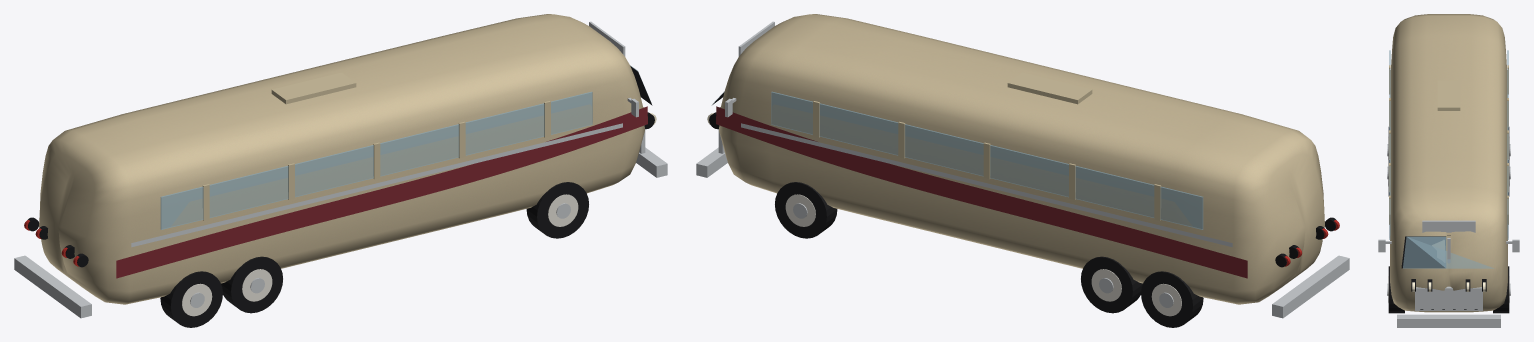
File: coach.glb
3 views of the same model, side by side, from view 1: azimuth 30°, elevation 25°; view 2: azimuth 150°, elevation 25°; view 3: azimuth 270°, elevation 25° (orthographic). The views are drawn at different scales.
Parts seen in each view (by area): view 1: CoachBody, CoachSideGlass_L, CoachSwoosh, CoachBelt, CoachTyre_2_L, CoachTyre_0_L, CoachTyre_1_L, CoachBumperR, CoachRoofVent, CoachWall_1_L, CoachWall_0_L, CoachWall_2_L (+1 smaller); view 2: CoachBody, CoachSideGlass_R, CoachSwoosh, CoachBelt, CoachTyre_2_R, CoachTyre_0_R, CoachTyre_1_R, CoachBumperR, CoachRoofVent, CoachWall_1_R, CoachWall_0_R, CoachWall_2_R (+1 smaller); view 3: CoachBody, CoachGrille, CoachBumperF, CoachScreenL, CoachScreenR, CoachScreenFrameL, CoachRoofVent, CoachBlindRim, CoachSideGlass_L, CoachSideGlass_R, CoachTyre_0_L, CoachTyre_0_R.
Boxes of the visible parts, box(x1,y1,x2,y2) form: CoachBody: box(39, 14, 644, 304); CoachSideGlass_L: box(160, 91, 592, 229); CoachSwoosh: box(116, 106, 647, 278); CoachBelt: box(131, 123, 622, 247); CoachTyre_2_L: box(160, 271, 222, 327); CoachTyre_0_L: box(526, 182, 588, 238); CoachTyre_1_L: box(221, 256, 282, 313); CoachBumperR: box(14, 255, 91, 318); CoachRoofVent: box(271, 72, 356, 104); CoachWall_1_L: box(242, 269, 272, 301); CoachWall_0_L: box(548, 194, 578, 226); CoachWall_2_L: box(182, 283, 212, 316); CoachBody: box(719, 14, 1324, 304); CoachSideGlass_R: box(771, 91, 1203, 229); CoachSwoosh: box(716, 106, 1247, 278); CoachBelt: box(741, 123, 1232, 247); CoachTyre_2_R: box(1141, 271, 1203, 327); CoachTyre_0_R: box(775, 182, 837, 238); CoachTyre_1_R: box(1081, 256, 1142, 313); CoachBumperR: box(1272, 255, 1349, 318); CoachRoofVent: box(1007, 72, 1092, 104); CoachWall_1_R: box(1091, 269, 1121, 301); CoachWall_0_R: box(785, 194, 815, 226); CoachWall_2_R: box(1151, 283, 1181, 316); CoachBody: box(1390, 14, 1507, 312); CoachGrille: box(1415, 286, 1482, 310); CoachBumperF: box(1397, 314, 1500, 327); CoachScreenL: box(1403, 236, 1446, 268); CoachScreenR: box(1408, 237, 1493, 268); CoachScreenFrameL: box(1401, 236, 1445, 268); CoachRoofVent: box(1437, 80, 1460, 110); CoachBlindRim: box(1422, 220, 1475, 232); CoachSideGlass_L: box(1389, 50, 1390, 239); CoachSideGlass_R: box(1507, 50, 1508, 239); CoachTyre_0_L: box(1388, 266, 1404, 313); CoachTyre_0_R: box(1493, 266, 1509, 313).
Size of the model in its own units: 11.7 by 3.33 by 3.12.
10 materials, 1 textured.
